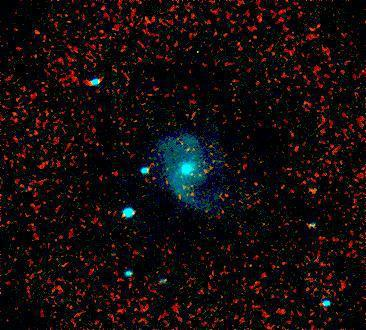star: (180, 156, 210, 186)
